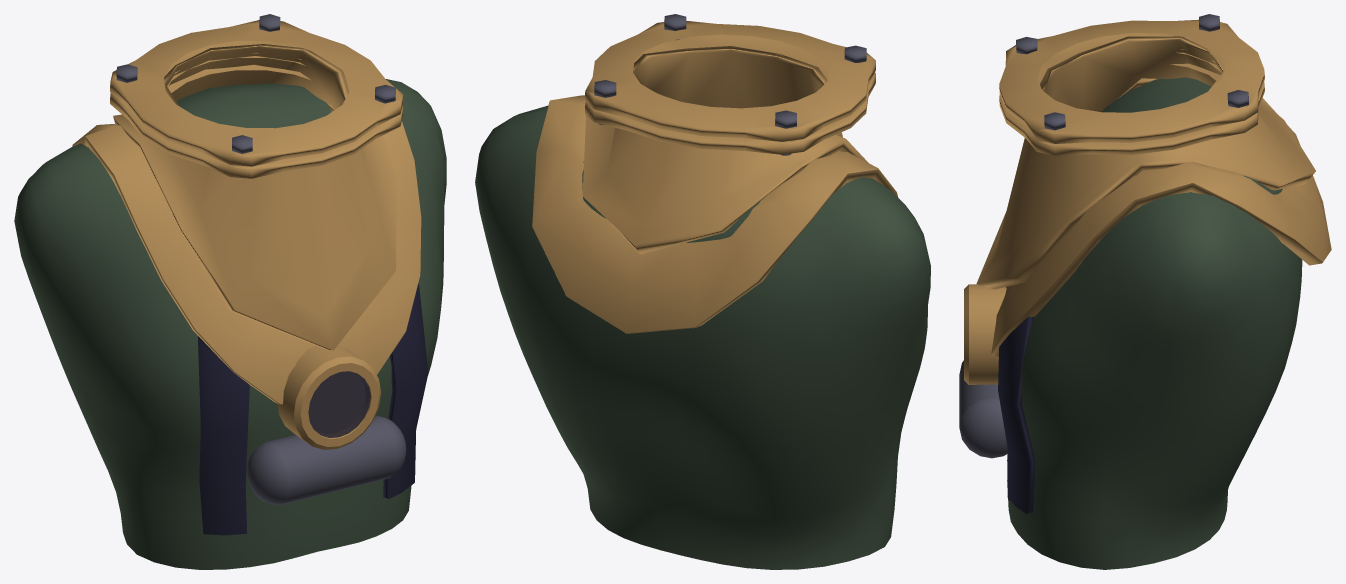
File: Body_Part_Body_1.fbx
3 renders of one model, left to right at view 1: azimuth 30°, elevation 25°; view 2: azimuth 150°, elevation 25°; view 3: azimuth 270°, elevation 25°, orthographic. The views are drawn at different scales.
Parts seen in each view (by area): view 1: polySurface36; view 2: polySurface36; view 3: polySurface36.
Boxes of the visible parts, x1,y1,x2,y2 form: polySurface36: (14,14,446,569); polySurface36: (475,14,930,569); polySurface36: (959,14,1331,569).
Size of the model in its own units: 43.32 by 44.05 by 33.56.
